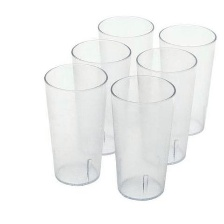glass: (102, 68, 181, 207), (128, 43, 200, 173), (64, 34, 136, 162), (41, 61, 110, 192), (91, 12, 157, 142), (154, 22, 217, 140)
